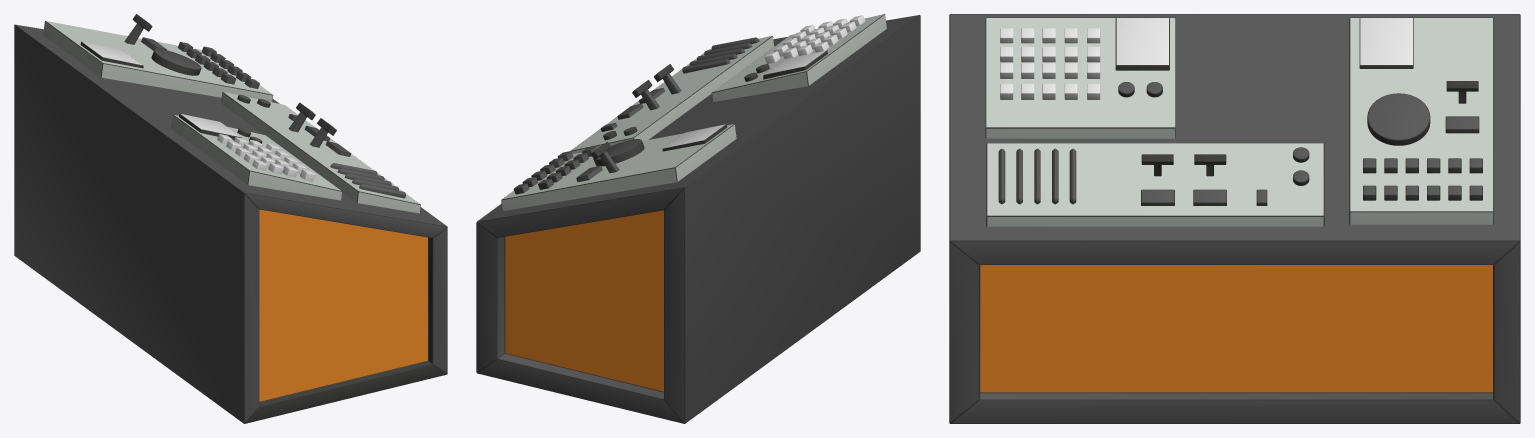
The model's file is central.fbx.
3 views of the same model, side by side, from view 1: azimuth 30°, elevation 25°; view 2: azimuth 150°, elevation 25°; view 3: azimuth 270°, elevation 25° (orthographic). The views are drawn at different scales.
Parts seen in each view (by area): view 1: maquina; view 2: maquina; view 3: maquina.
Part boxes in pixels (<box>): maquina: <box>14,14,447,423</box>; maquina: <box>476,14,920,423</box>; maquina: <box>949,14,1520,423</box>.
Bounding box in the file's own units: 152 × 171 × 297.
